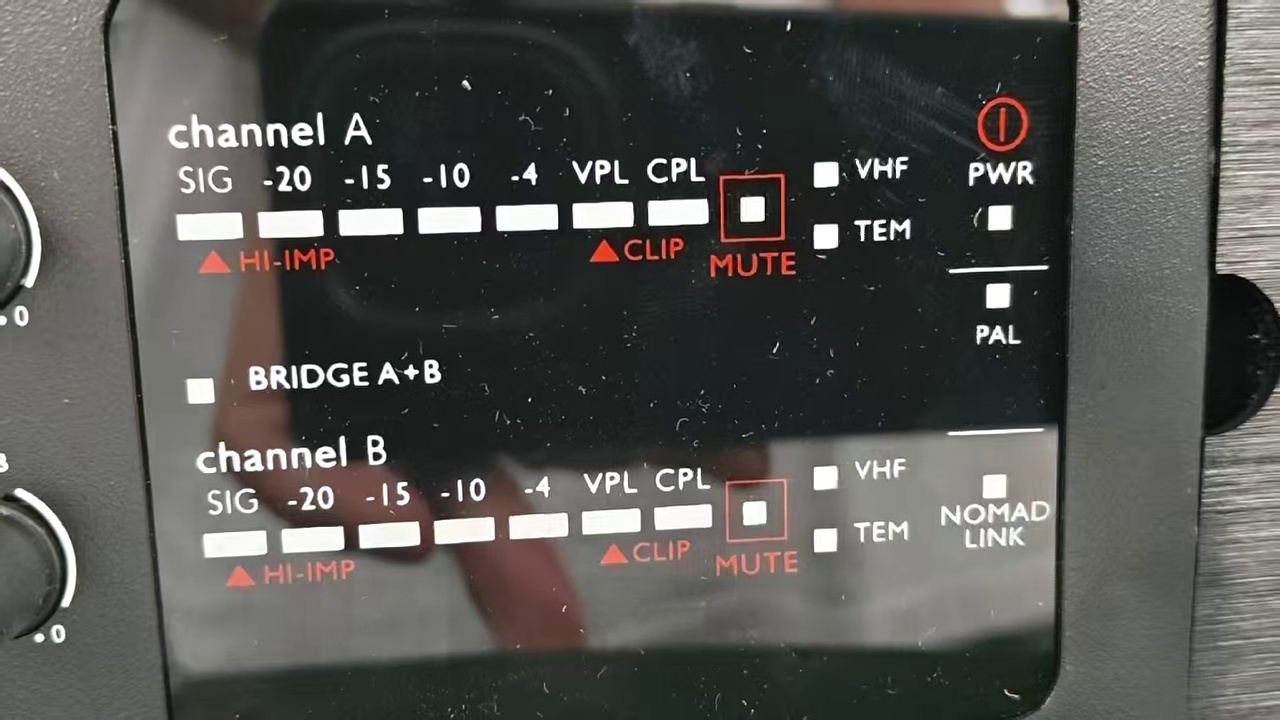FP_CPL: (638, 151, 711, 231), (646, 462, 717, 537)
FP_PWR: (961, 149, 1040, 237)
FP_PWR_area: (942, 93, 1056, 265)
FP_SIG_area: (187, 427, 925, 595), (165, 144, 923, 290)
FP_VPL: (565, 151, 639, 233), (578, 464, 646, 542)
